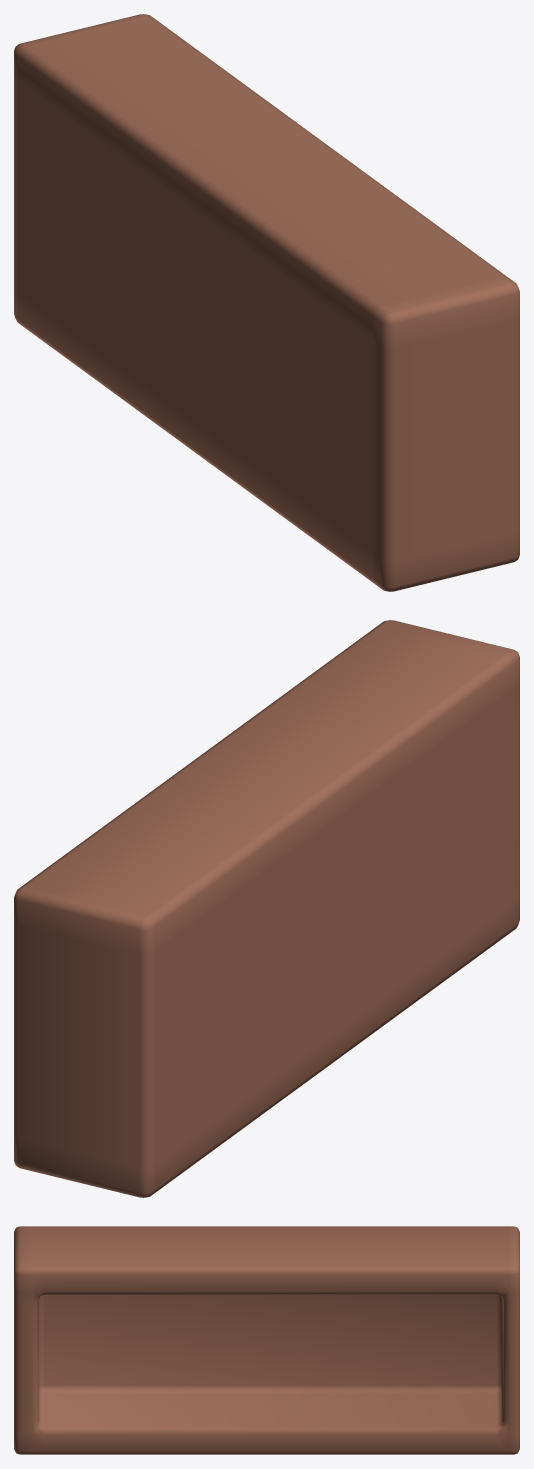
File: Hanging_shelf.fbx
3 renders of one model, top to bottom at view 1: azimuth 30°, elevation 25°; view 2: azimuth 150°, elevation 25°; view 3: azimuth 270°, elevation 25°, orthographic. The views are drawn at different scales.
Visible parts, largest first — view 1: Bathroom_floating_shelf; view 2: Bathroom_floating_shelf; view 3: Bathroom_floating_shelf.
Part boxes in pixels (<box>): Bathroom_floating_shelf: <box>14,14,519,591</box>; Bathroom_floating_shelf: <box>14,620,519,1197</box>; Bathroom_floating_shelf: <box>14,1226,519,1454</box>.
Size of the model in its own units: 23.48 by 45.66 by 111.
